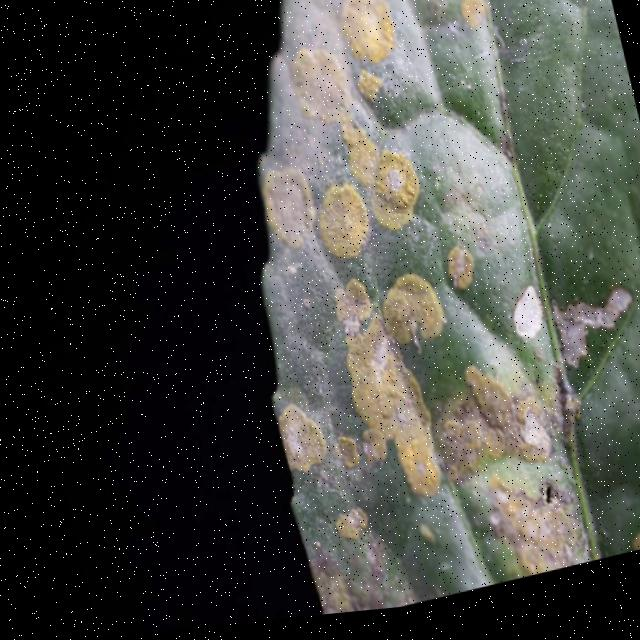Tea red rust: (183, 0, 640, 619)
